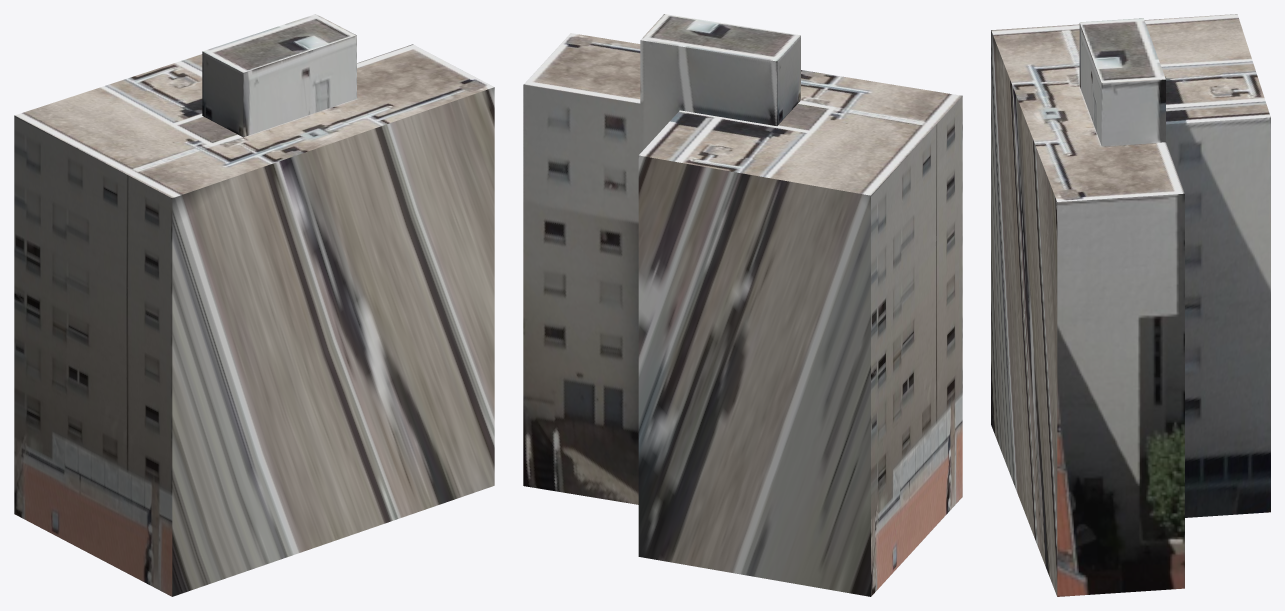
3 renders of one model, left to right at view 1: azimuth 30°, elevation 25°; view 2: azimuth 150°, elevation 25°; view 3: azimuth 270°, elevation 25°, orthographic.
Visible parts, largest first — view 1: Z_UP; view 2: Z_UP; view 3: Z_UP.
Boxes of the visible parts, x1,y1,x2,y2 form: Z_UP: [14, 14, 494, 596]; Z_UP: [523, 14, 962, 596]; Z_UP: [991, 14, 1270, 596].
Bounding box in the file's own units: 21.6 × 24.57 × 13.58.
2 materials, 1 textured.
